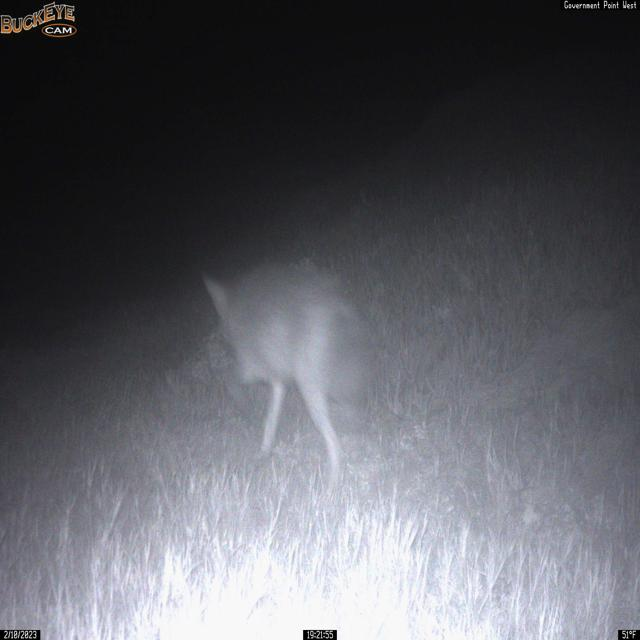coyote: (200, 260, 372, 488)
